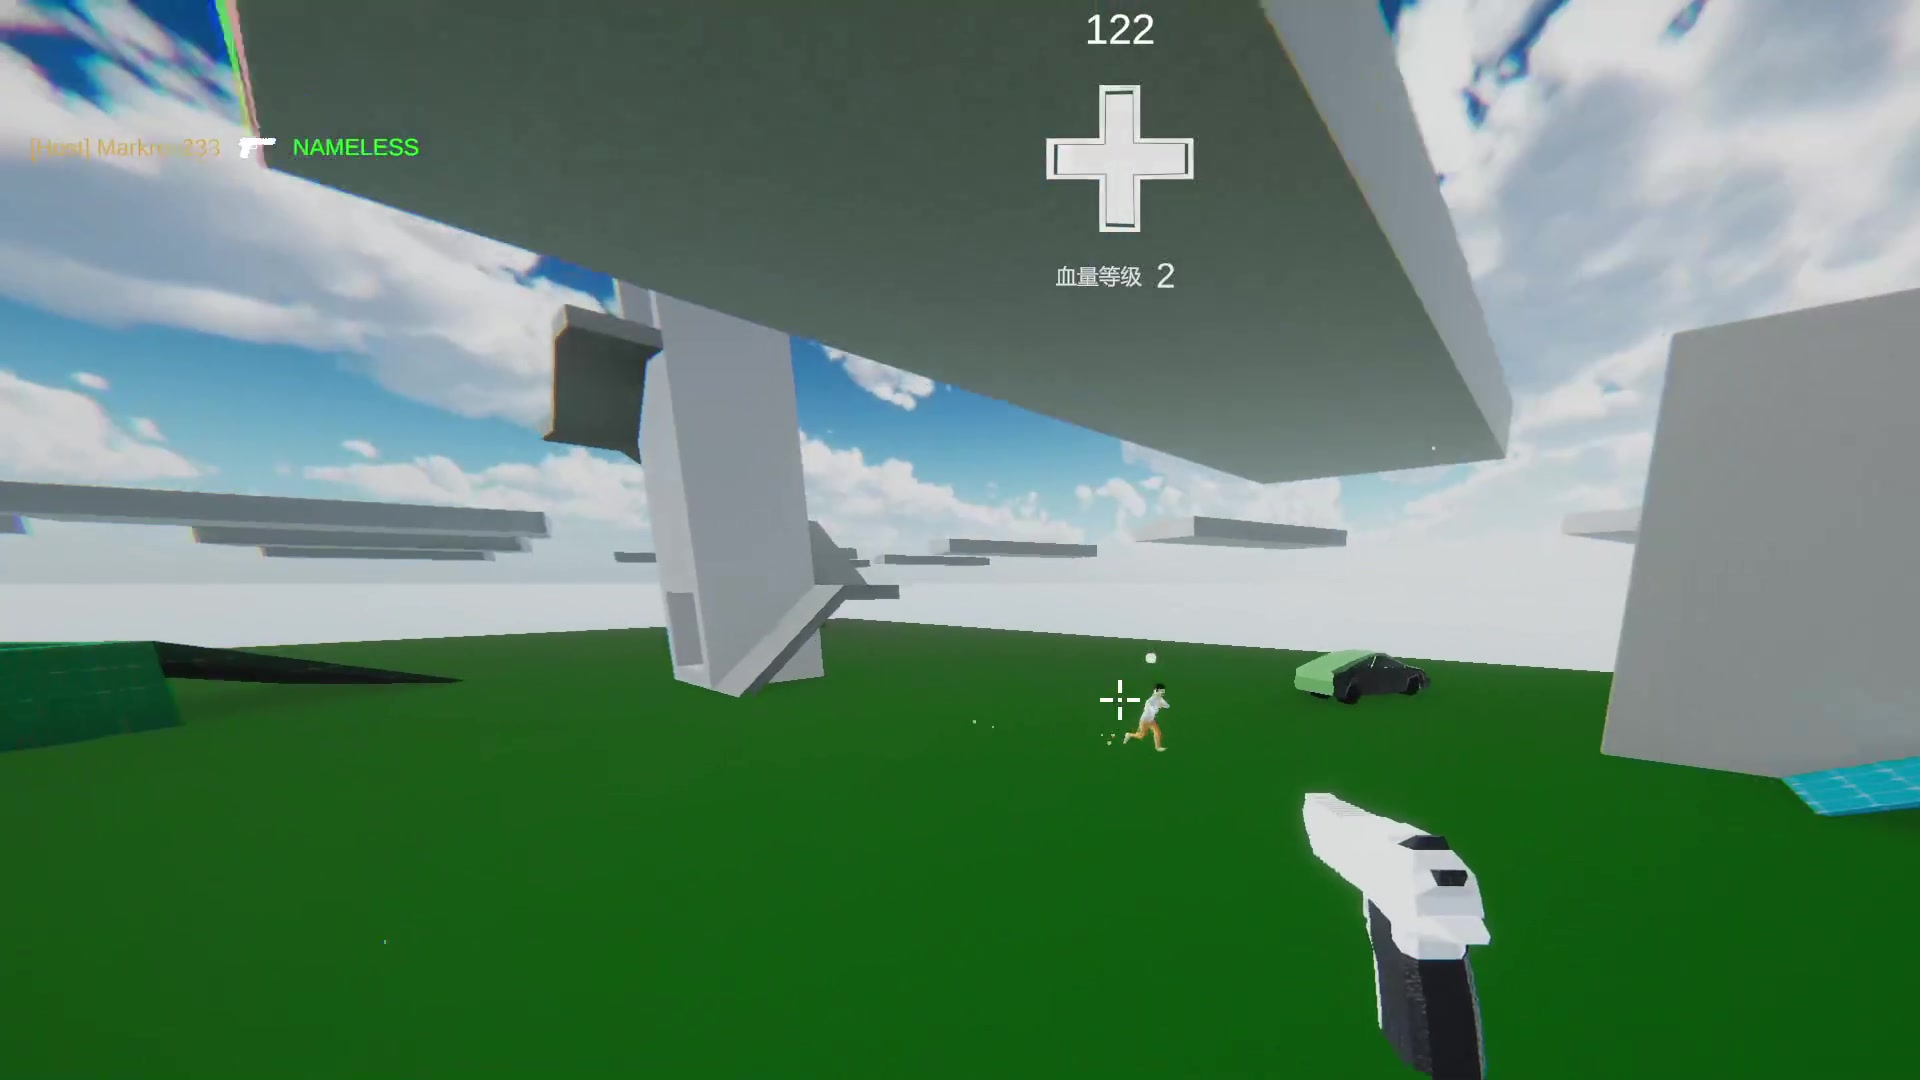human: (1140, 678, 1176, 754)
